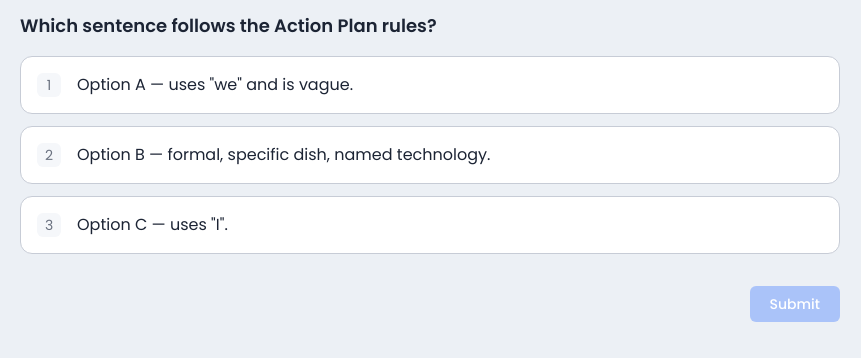
Test case: SlideMcq — incorrect answer › wrong option explanation shows below the options
Click the button with aria-label "Option 1: Option A".
click(215, 84)  # box left=20, top=56, right=840, bottom=114
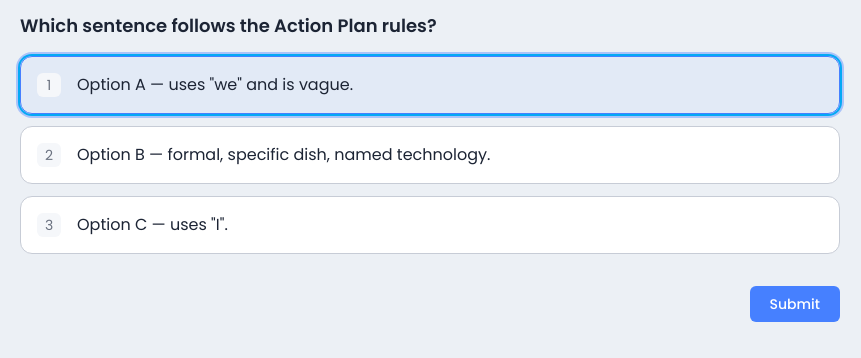
Click the button with aria-label "Submit answer".
click(795, 304)  # box left=750, top=286, right=840, bottom=322
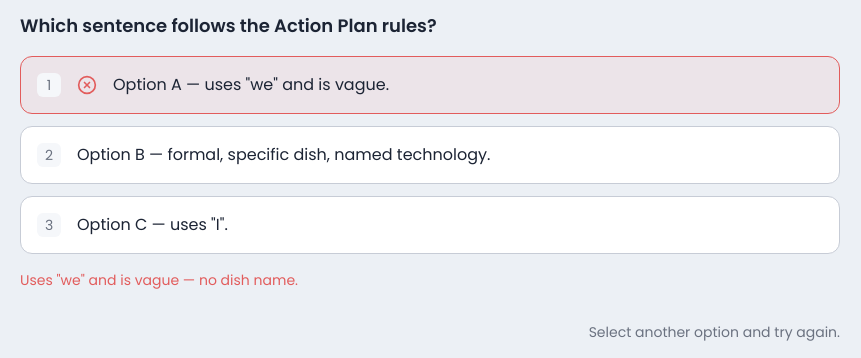
Result: the text "Uses \"we\" and is vague — no dish name." is shown at left=20, top=270, right=298, bottom=290
